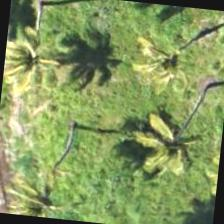Kelapa_Sawit: (116, 6, 215, 105), (119, 90, 218, 188), (0, 147, 91, 221), (1, 14, 64, 109)
